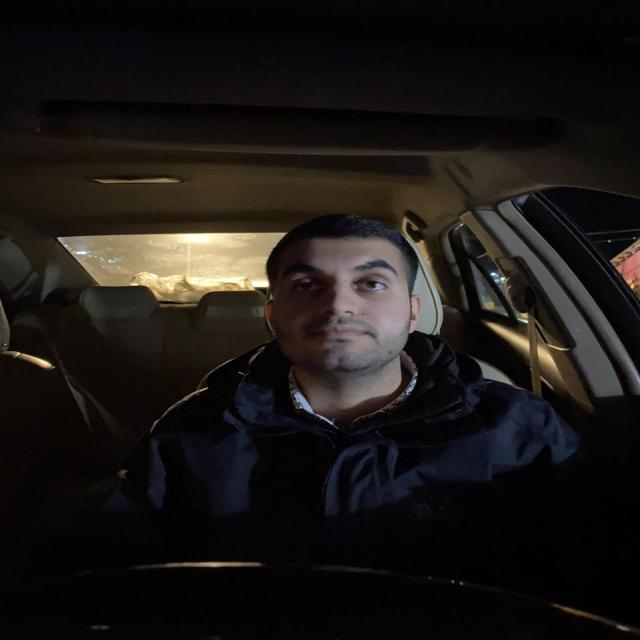person: (262, 202, 427, 392)
